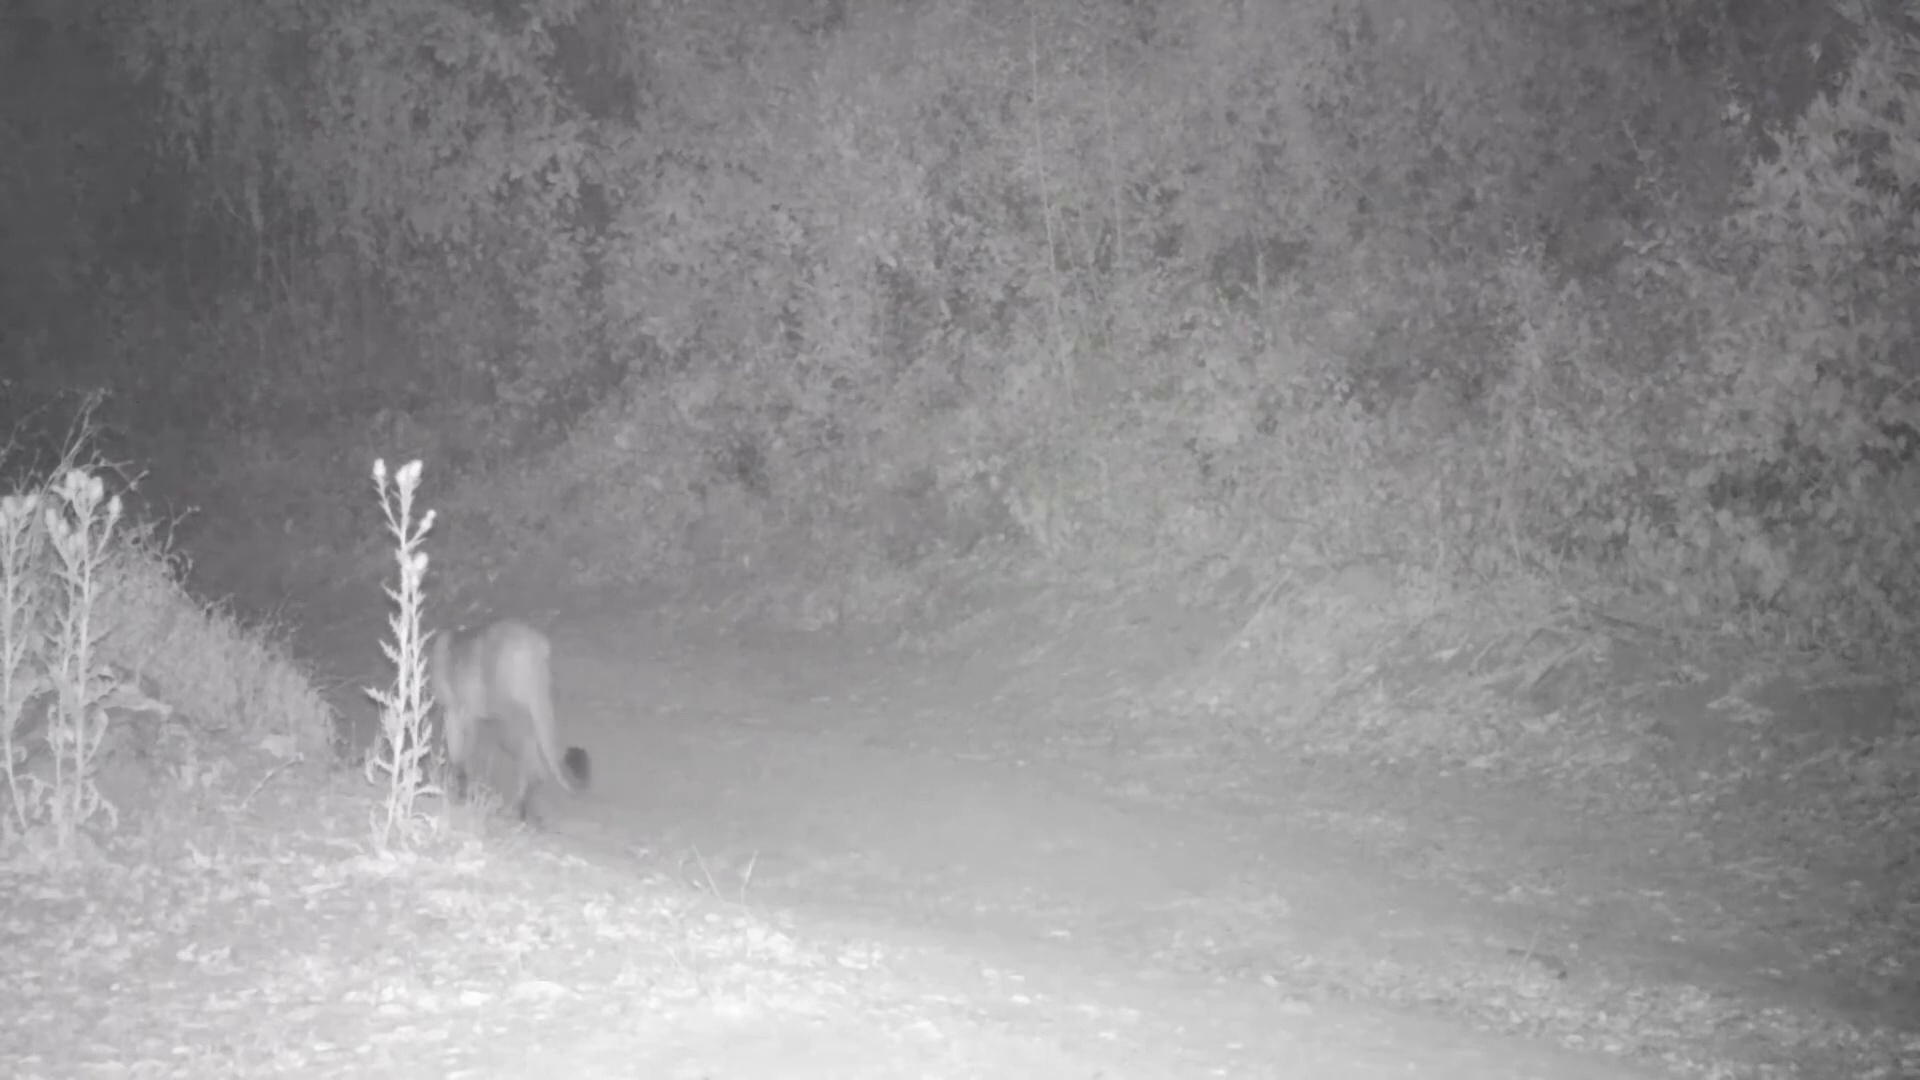Lion: (419, 616, 593, 822)
